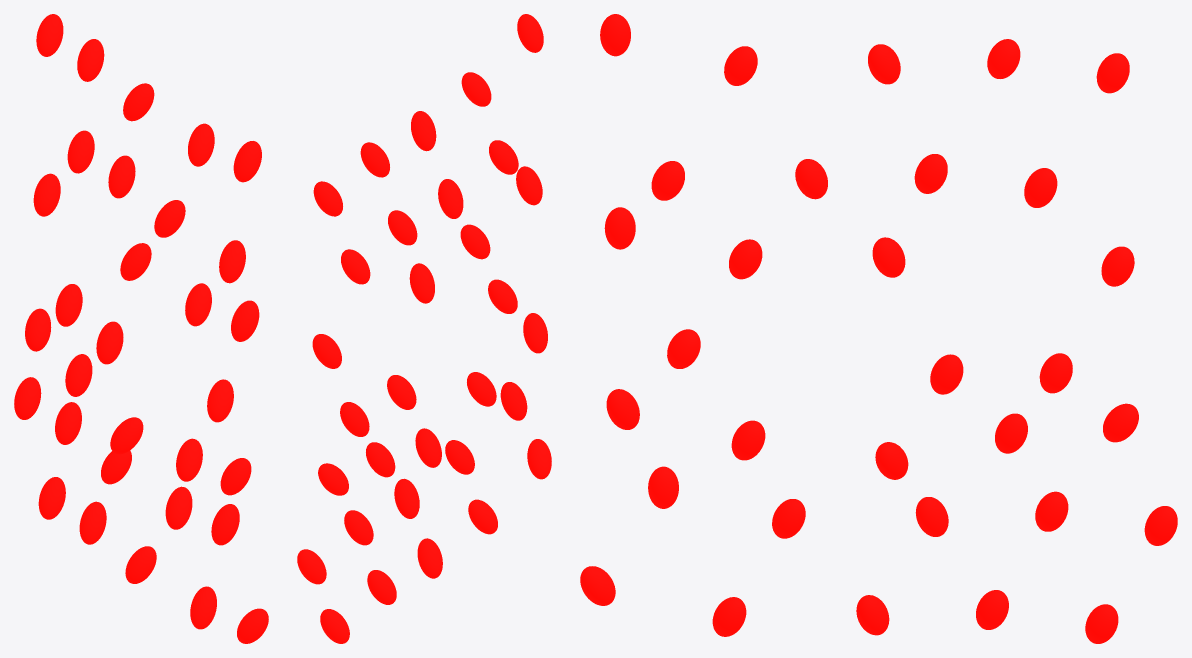
Rendered from XMAS_light.gltf.
3 views of the same model, side by side, from view 1: azimuth 30°, elevation 25°; view 2: azimuth 150°, elevation 25°; view 3: azimuth 270°, elevation 25° (orthographic). The views are drawn at different scales.
Parts seen in each view (by area): view 1: Sphere.009, Sphere.019, Sphere.034, Sphere.015, Sphere.020, Sphere.010, Sphere.017, Sphere.027, Sphere.012, Sphere.004, Sphere.005, Sphere.024 (+19 smaller); view 2: Sphere.028, Sphere.033, Sphere.013, Sphere.023, Sphere.003, Sphere.008, Sphere.021, Sphere.011, Sphere.031, Sphere.026, Sphere.001, Sphere.004 (+19 smaller); view 3: Sphere.031, Sphere.025, Sphere.021, Sphere.011, Sphere.026, Sphere.022, Sphere.001, Sphere.027, Sphere.019, Sphere.007, Sphere.013, Sphere.029 (+19 smaller).
Boxes of the visible parts, bbox=[...] form: Sphere.009: bbox=[108, 155, 135, 198]; Sphere.019: bbox=[96, 321, 123, 364]; Sphere.034: bbox=[79, 501, 106, 544]; Sphere.015: bbox=[33, 173, 60, 216]; Sphere.020: bbox=[55, 284, 82, 326]; Sphere.010: bbox=[67, 130, 94, 173]; Sphere.017: bbox=[207, 379, 233, 422]; Sphere.027: bbox=[165, 486, 192, 529]; Sphere.012: bbox=[185, 283, 211, 326]; Sphere.004: bbox=[77, 39, 104, 81]; Sphere.005: bbox=[36, 14, 63, 56]; Sphere.024: bbox=[65, 354, 92, 396]; Sphere.028: bbox=[394, 478, 419, 518]; Sphere.033: bbox=[417, 538, 442, 578]; Sphere.013: bbox=[409, 263, 434, 303]; Sphere.023: bbox=[415, 428, 441, 467]; Sphere.003: bbox=[411, 111, 436, 151]; Sphere.008: bbox=[438, 179, 463, 218]; Sphere.021: bbox=[523, 313, 547, 353]; Sphere.011: bbox=[516, 166, 542, 205]; Sphere.031: bbox=[527, 439, 551, 479]; Sphere.026: bbox=[500, 382, 527, 420]; Sphere.001: bbox=[517, 14, 543, 52]; Sphere.004: bbox=[360, 142, 389, 177]; Sphere.031: bbox=[580, 566, 615, 605]; Sphere.025: bbox=[1103, 403, 1138, 442]; Sphere.021: bbox=[606, 389, 639, 429]; Sphere.011: bbox=[604, 207, 635, 249]; Sphere.026: bbox=[648, 466, 678, 508]; Sphere.022: bbox=[731, 420, 765, 460]; Sphere.001: bbox=[600, 14, 630, 56]; Sphere.027: bbox=[772, 499, 805, 538]; Sphere.019: bbox=[930, 354, 963, 394]; Sphere.007: bbox=[651, 161, 684, 200]; Sphere.013: bbox=[872, 237, 905, 277]; Sphere.029: bbox=[1035, 491, 1068, 531].
Bounding box in the file's own units: 0.5892 × 6.68 × 5.74.
